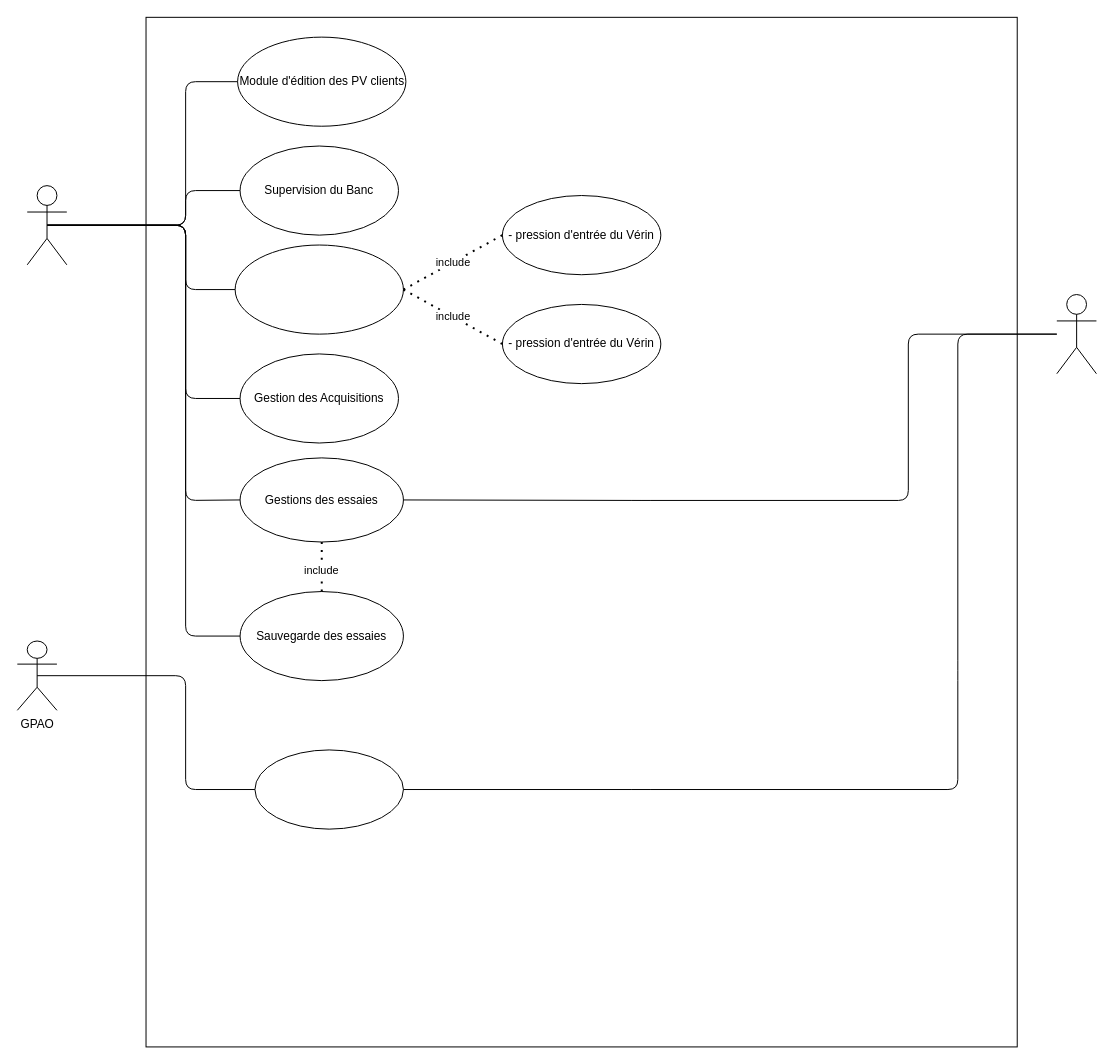
This 1114x1064 diagram has some shape labels left out. Here are the shapes that lost their labels. From the top down, the centre of each, then its label:
the point at 46,225: Controleur
the point at 318,289: Visualisation des courbes en direct
the point at 1076,334: BDD
the point at 328,789: Gestions des affaires
